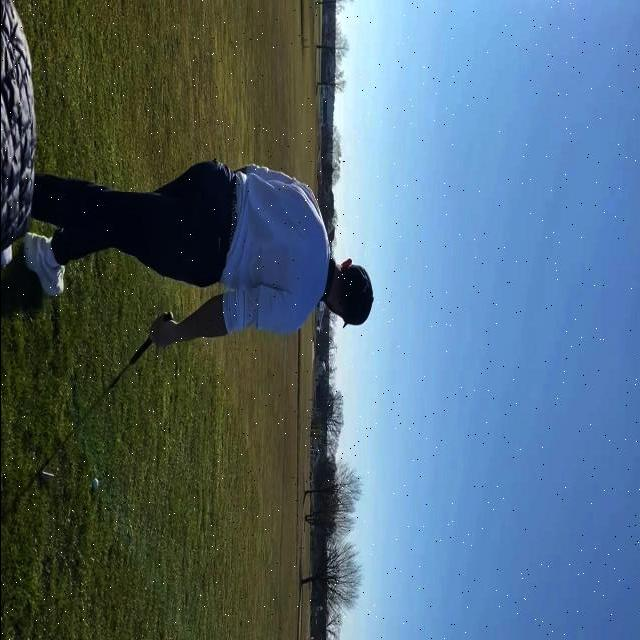ClubHandle: (38, 311, 173, 480)
ClubHead: (38, 471, 53, 480)
GolfBall: (92, 478, 97, 490)
